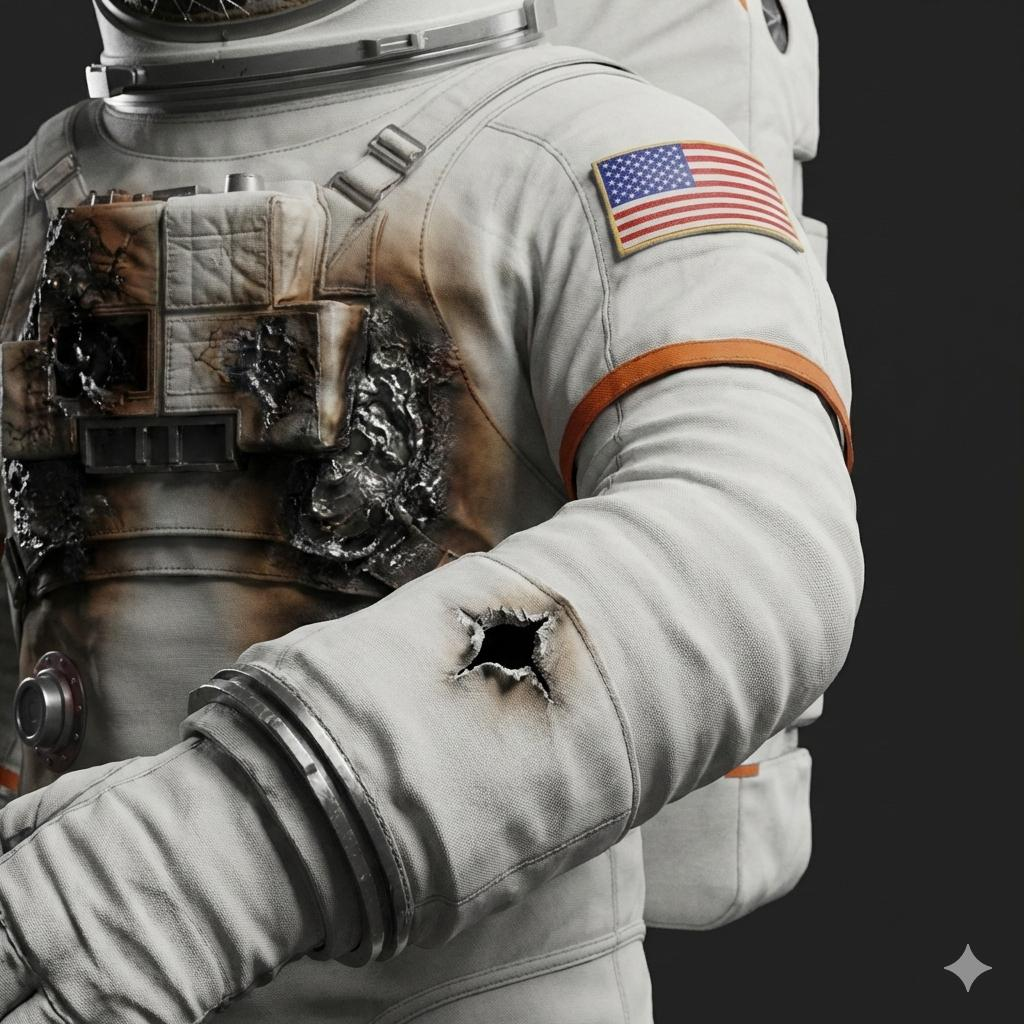burn: (0, 66, 434, 752)
puncture: (463, 558, 588, 735)
